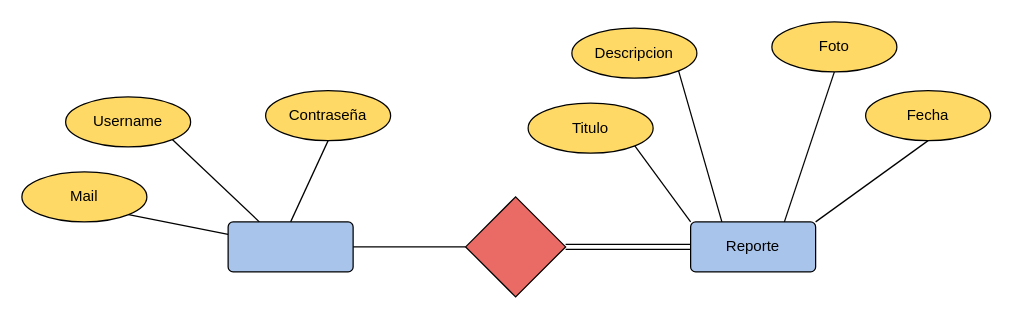
Image size: 1013x319. Some labels were removed from this diagram. Here are the shapes that lost their labels. From the top down, the centre of each, then its label:
At pixel 290 246: "Usuario".
At pixel 515 246: "Crea".
